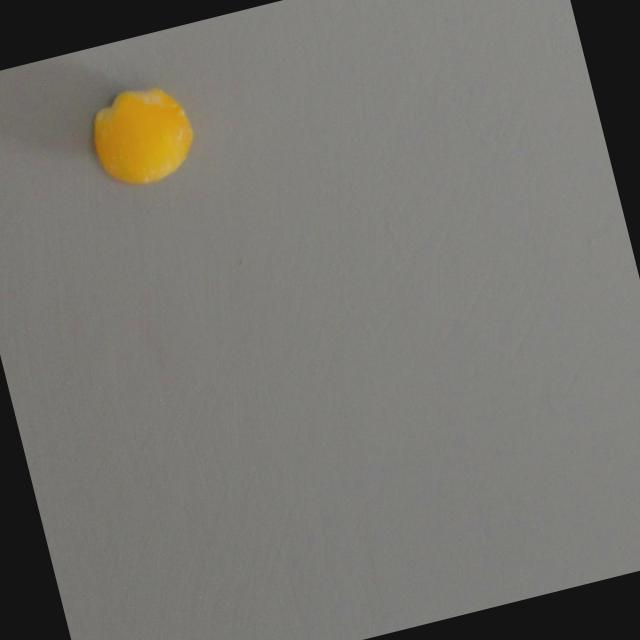pelicula: (77, 72, 205, 197)
